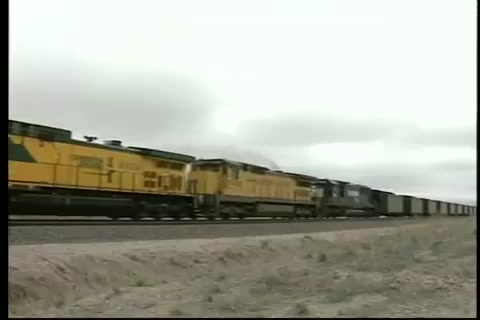train: (9, 119, 478, 221)
